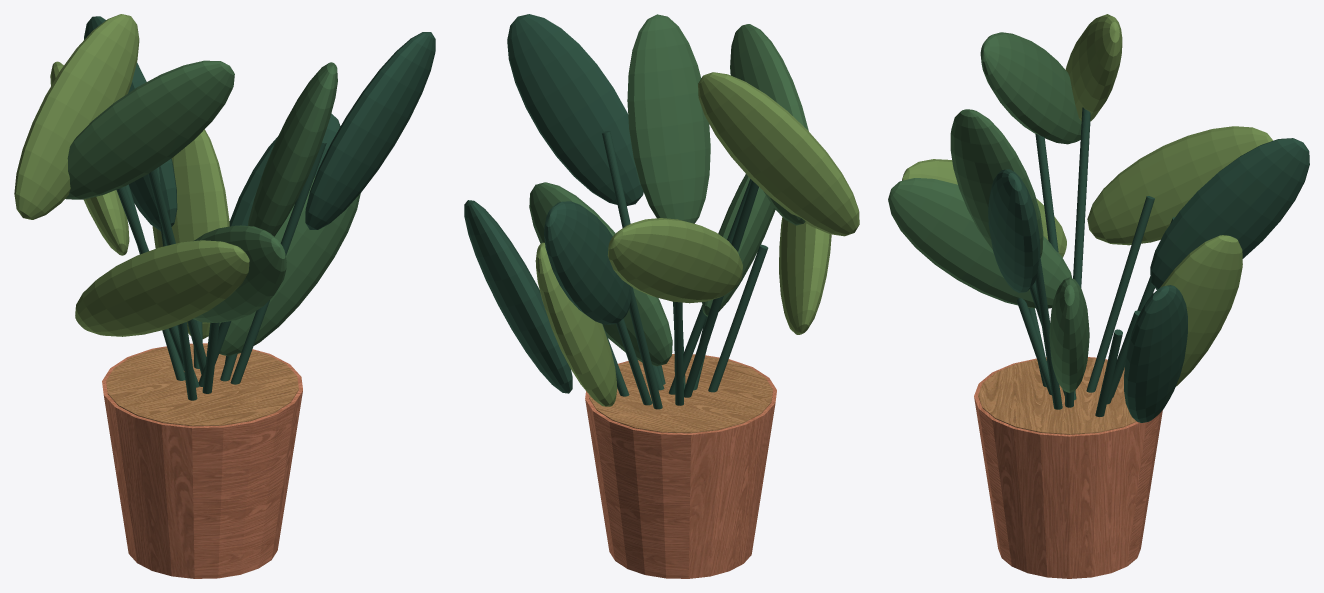
The model's file is hiperreal.glb.
3 views of the same model, side by side, from view 1: azimuth 30°, elevation 25°; view 2: azimuth 150°, elevation 25°; view 3: azimuth 270°, elevation 25° (orthographic). The views are drawn at different scales.
Visible parts, largest first — view 1: Native component 18, Native component 14, Native component 0, Native component 10, Native component 1; view 2: Native component 10, Native component 18, Native component 0, Native component 14, Native component 1; view 3: Native component 10, Native component 14, Native component 0, Native component 18, Native component 1.
Part boxes in pixels (box(x1,y1,x2,y2)): Native component 18: box(14, 14, 249, 338); Native component 14: box(65, 60, 360, 356); Native component 0: box(102, 343, 302, 578); Native component 10: box(84, 16, 435, 400); Native component 1: box(106, 344, 298, 426); Native component 10: box(464, 14, 768, 409); Native component 18: box(535, 72, 859, 406); Native component 0: box(585, 354, 776, 578); Native component 14: box(529, 14, 808, 366); Native component 1: box(589, 354, 772, 433); Native component 10: box(988, 107, 1309, 422); Native component 14: box(888, 32, 1089, 392); Native component 0: box(974, 357, 1162, 578); Native component 18: box(902, 14, 1272, 386); Native component 1: box(978, 358, 1136, 434).
Bounding box in the file's own units: 1.26 × 1.63 × 1.24.
6 materials, 2 textured.
